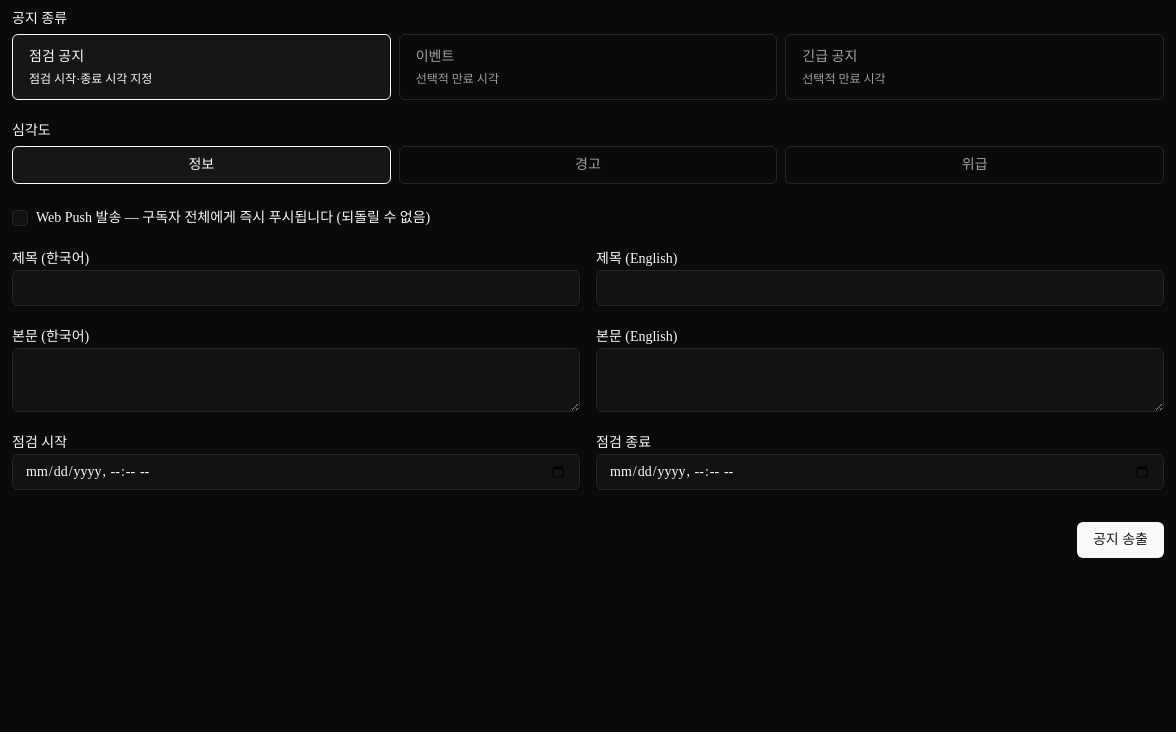
it: AnnouncementLaunchForm › MAINTENANCE_NOTICE — schedule 누락 시 메시지
In the field labelled "제목 (한국어)": (296, 288) [12, 270, 580, 306], type "k"
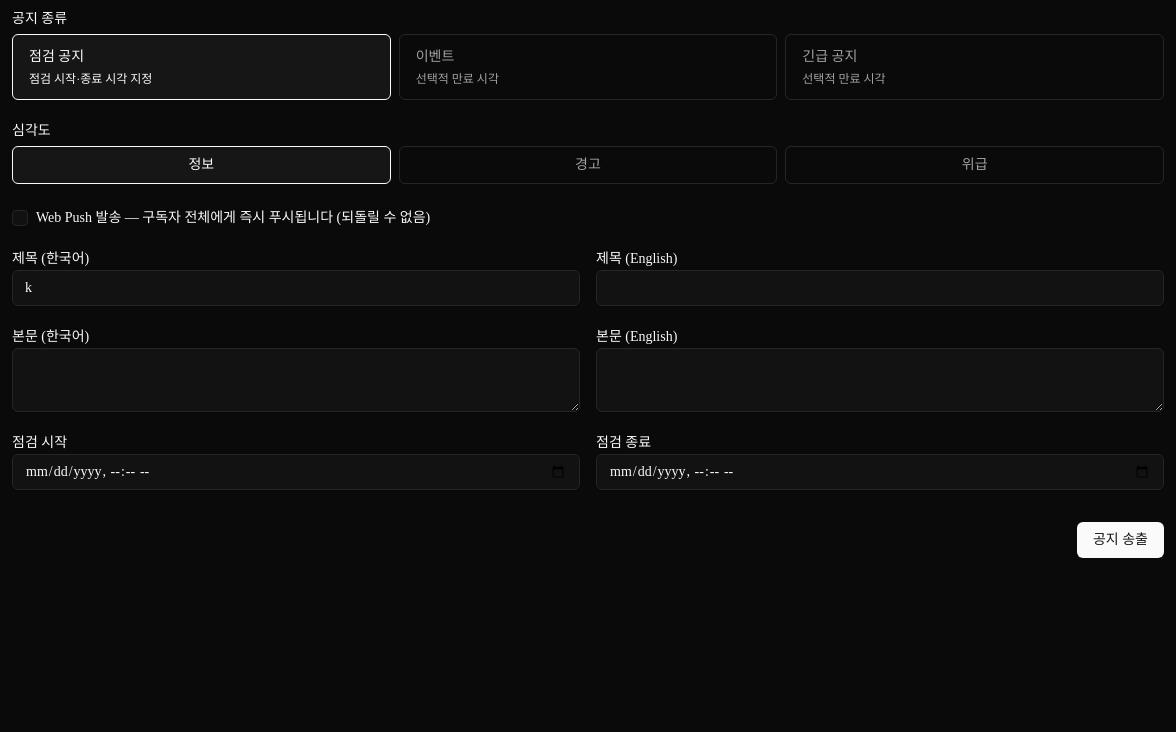
In the field labelled "제목 (English)": (880, 288) [596, 270, 1164, 306], type "e"
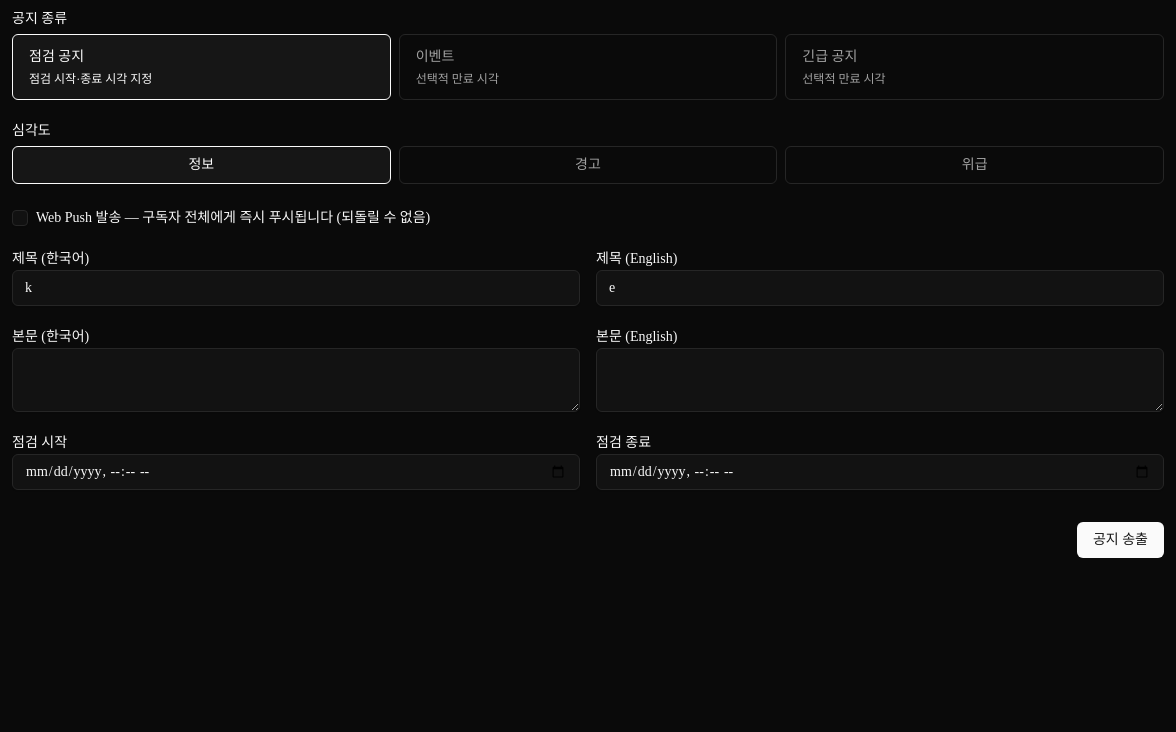
In the text box labelled "본문 (한국어)": (296, 380) [12, 348, 580, 412], type "kb"
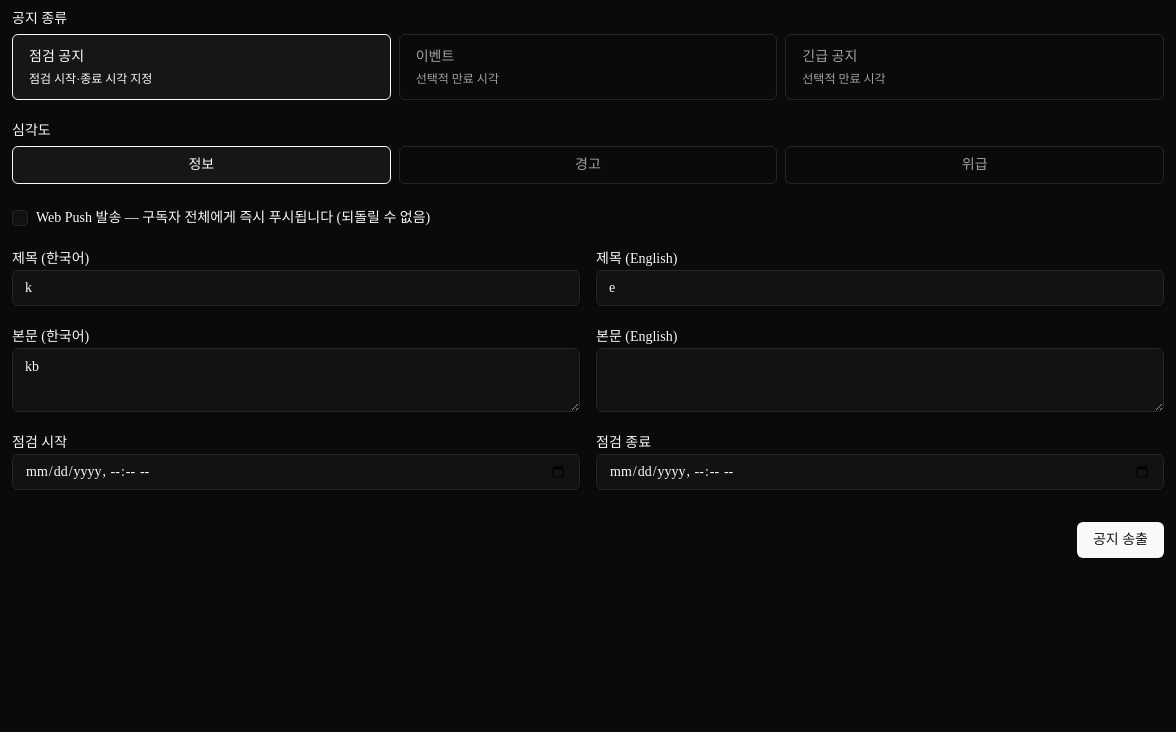
In the text box labelled "본문 (English)": (880, 380) [596, 348, 1164, 412], type "eb"
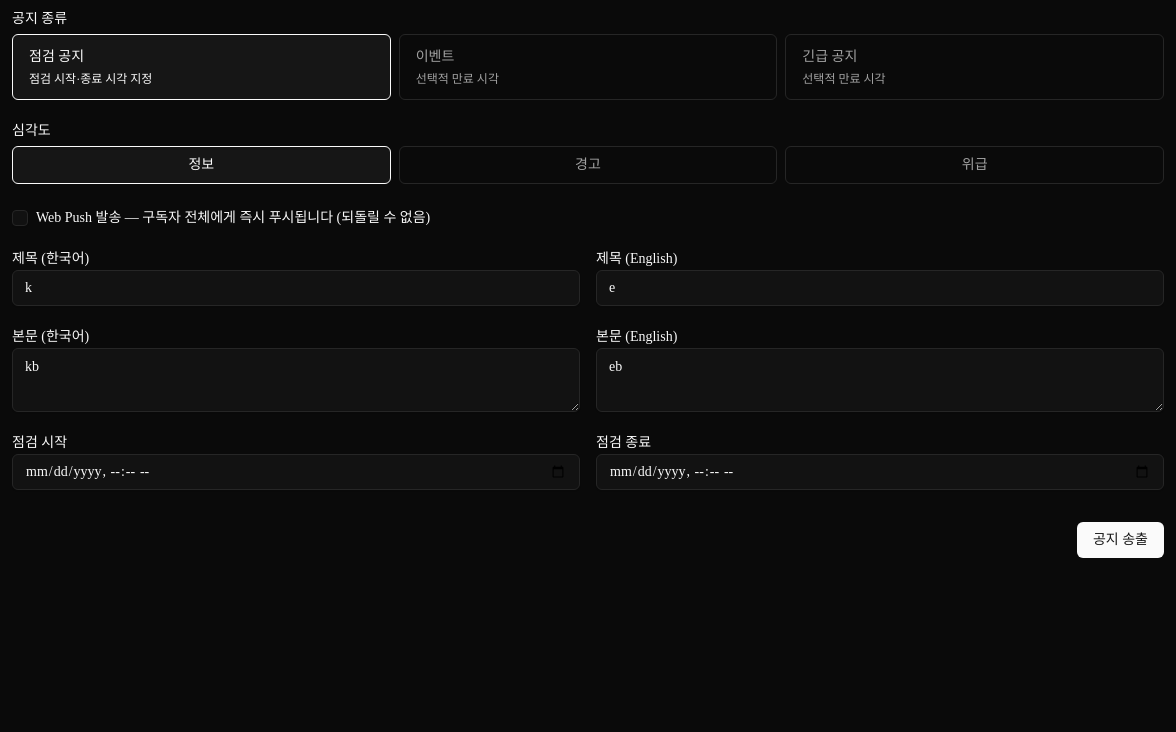
Click the button "공지 송출": (1120, 540) [1077, 522, 1164, 558]
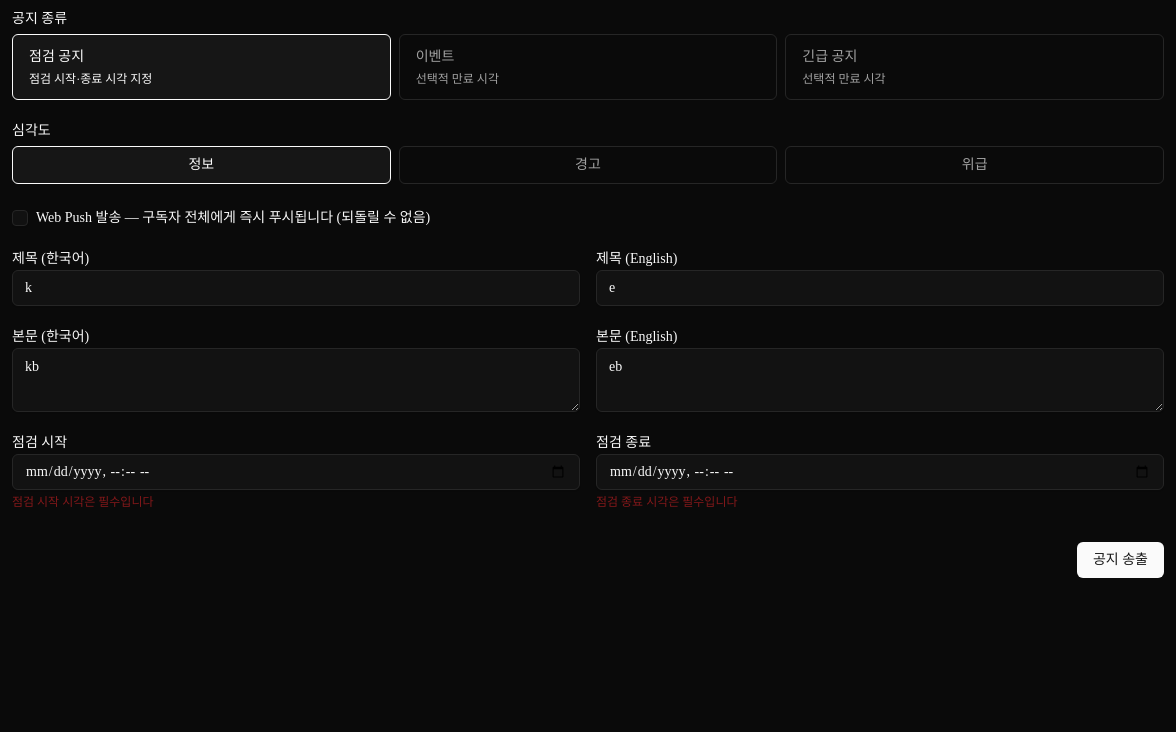
Expected: the text "점검 시작 시각은 필수입니다" is shown, [12, 495, 154, 509]
Expected: the text "점검 종료 시각은 필수입니다" is shown, [596, 495, 738, 509]
